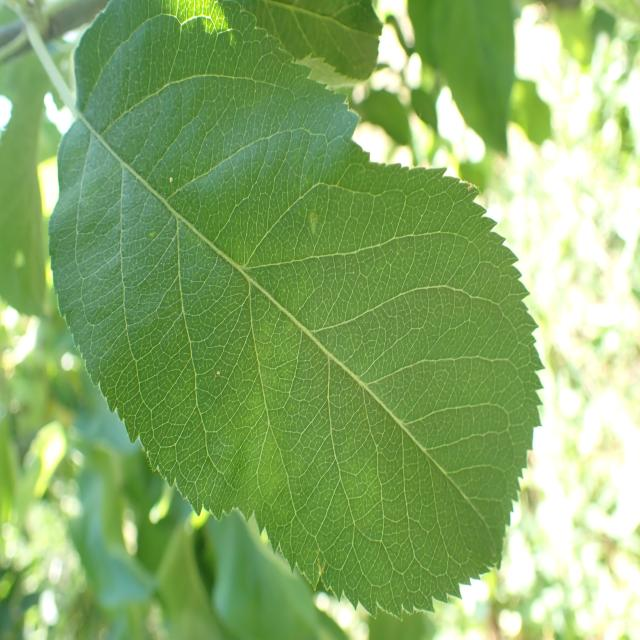healthy: (49, 2, 546, 619), (219, 0, 383, 95)
